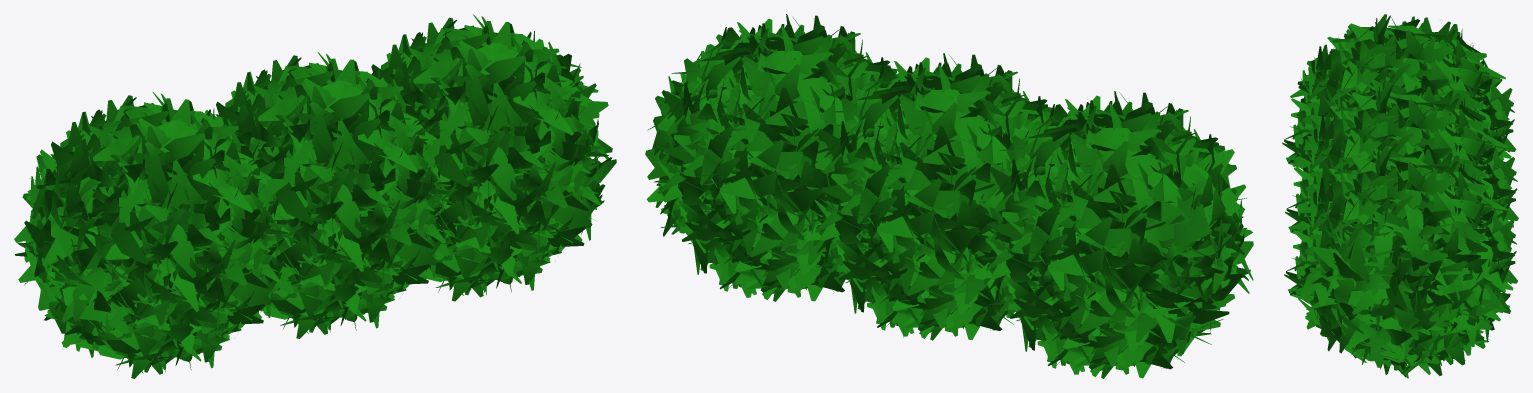
File: arbusto.fbx
3 renders of one model, left to right at view 1: azimuth 30°, elevation 25°; view 2: azimuth 150°, elevation 25°; view 3: azimuth 270°, elevation 25°, orthographic. The views are drawn at different scales.
Parts seen in each view (by area): view 1: Плоскость.002; view 2: Плоскость.002; view 3: Плоскость.002.
Part boxes in pixels (x1=…): Плоскость.002: x1=14, y1=14, x2=616, y2=378; Плоскость.002: x1=645, y1=14, x2=1253, y2=378; Плоскость.002: x1=1282, y1=14, x2=1518, y2=378.
Bounding box in the file's own units: 765 × 335 × 335.
